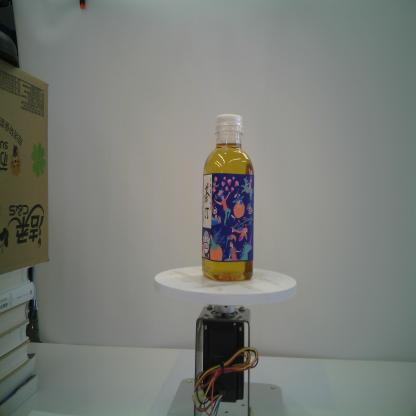Drink: (201, 114, 255, 283)
